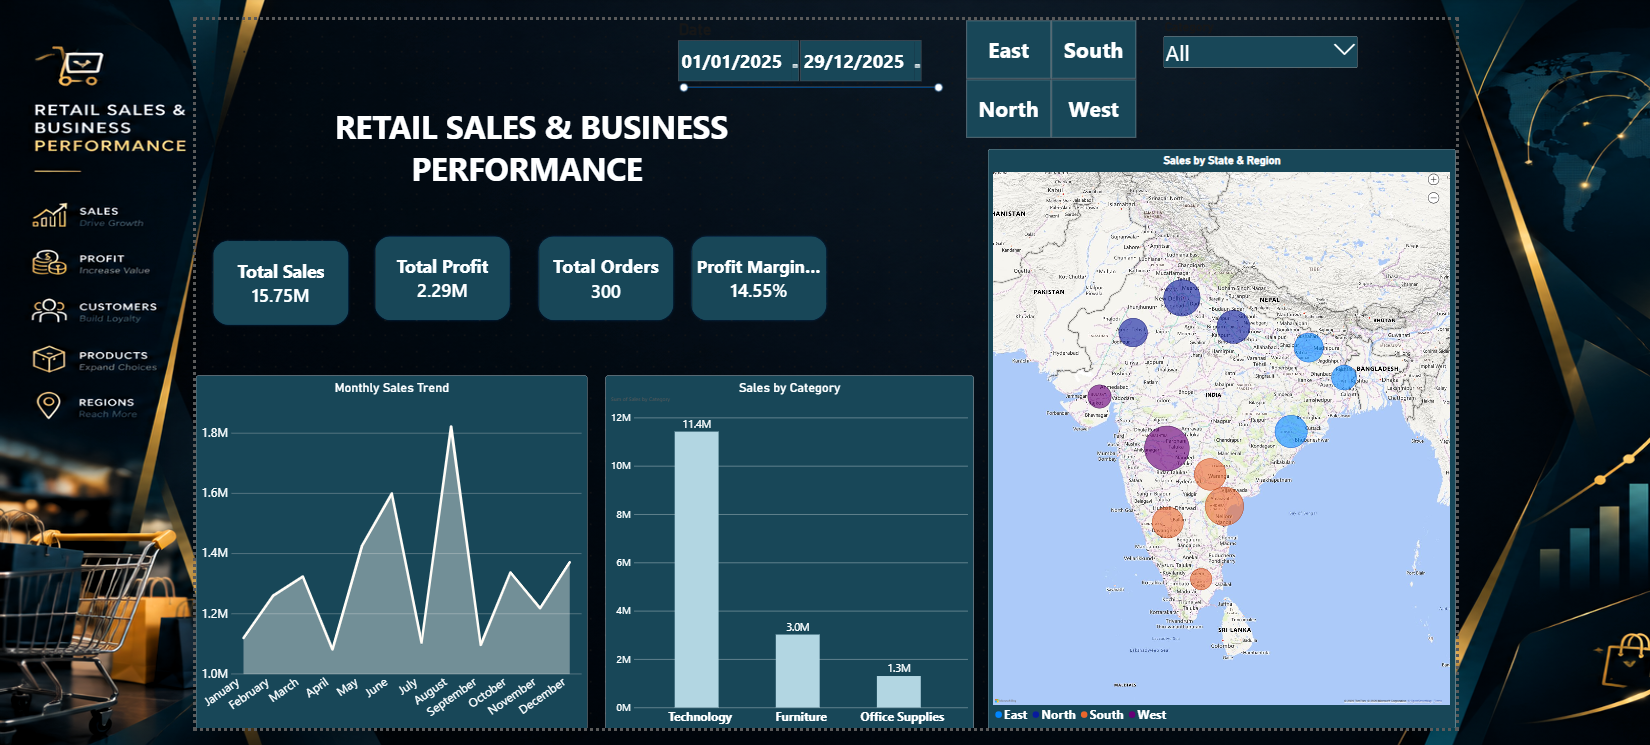

The dashboard page shown, as its layout file describes it:
{"tool":"powerbi","page":{"name":"Page 1","canvas":[3840,2160],"ordinal":0},"visuals":[{"type":"cardVisual","fields":{"Data":["Sales_Data.Total Sales"]},"box":[40.4,661.9,434.5,277.9],"z":0},{"type":"cardVisual","fields":{"Data":["Sum(Sales_Data.Profit)"]},"box":[534,648,432,276],"z":1},{"type":"cardVisual","fields":{"Data":["Count(Sales_Data.Order_ID)"]},"box":[1032,648,432,276],"z":2},{"type":"cardVisual","fields":{"Data":["Sales_Data.Profit Margin %"]},"box":[1500,648,432,276],"z":3},{"type":"lineChart","title":"Monthly Sales Trend","fields":{"Category":["Sales_Data.Order_Date.Variation.Date Hierarchy.Month"],"Y":["Sum(Sales_Data.Sales)"]},"box":[0,1081.3,1192.4,1086.3],"z":4},{"type":"clusteredColumnChart","title":"Sales by Category","fields":{"Category":["Sales_Data.Category"],"Y":["Sum(Sales_Data.Sales)"]},"box":[1248,1081.3,1121.7,1086.3],"z":5},{"type":"map","title":"Sales by State & Region","fields":{"Category":["Sales_Data.State"],"Series":["Sales_Data.Region"],"Size":["Sum(Sales_Data.Sales)"]},"box":[2414.4,393.6,1425.6,1766.4],"z":6},{"type":"slicer","fields":{"Values":["Sales_Data.Order_Date"]},"box":[1464,0,816,360],"z":7},{"type":"slicer","fields":{"Values":["Sales_Data.Region"]},"box":[2328,0,556.8,360],"z":8},{"type":"slicer","fields":{"Values":["Sales_Data.Category"]},"box":[2946,0,600,264],"z":9},{"type":"textbox","box":[257.7,262.7,1505.7,333.5],"z":10}]}

Visuals, with their boxes on the page's 3840x2160 design canvas (x1, y1, x2, y2). These are canvas units, not pixel positions in the 1650x745 screenshot, which may show the page scaled, cropped or inside an application window:
cardVisual - Sales_Data.Total Sales: [40,662,475,940]
cardVisual - Sum(Sales_Data.Profit): [534,648,966,924]
cardVisual - Count(Sales_Data.Order_ID): [1032,648,1464,924]
cardVisual - Sales_Data.Profit Margin %: [1500,648,1932,924]
"Monthly Sales Trend" lineChart: [0,1081,1192,2168]
"Sales by Category" clusteredColumnChart: [1248,1081,2370,2168]
"Sales by State & Region" map: [2414,394,3840,2160]
slicer - Sales_Data.Order_Date: [1464,0,2280,360]
slicer - Sales_Data.Region: [2328,0,2885,360]
slicer - Sales_Data.Category: [2946,0,3546,264]
textbox: [258,263,1763,596]
